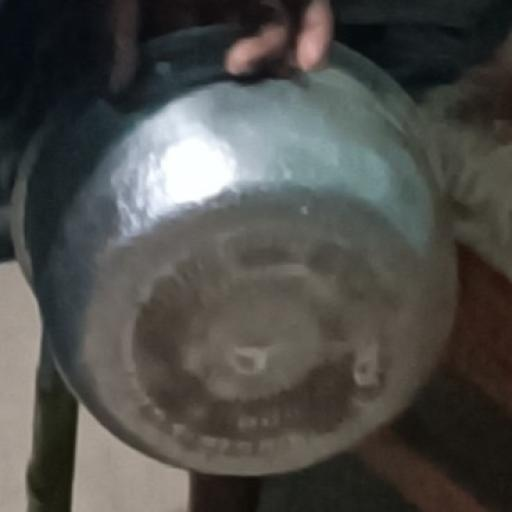vessel: (14, 28, 452, 472)
